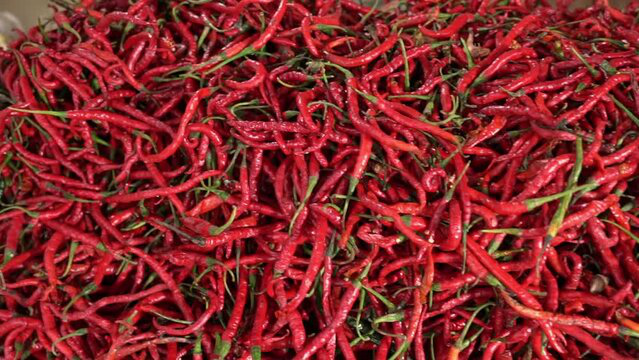Cabai: (200, 76, 487, 305)
